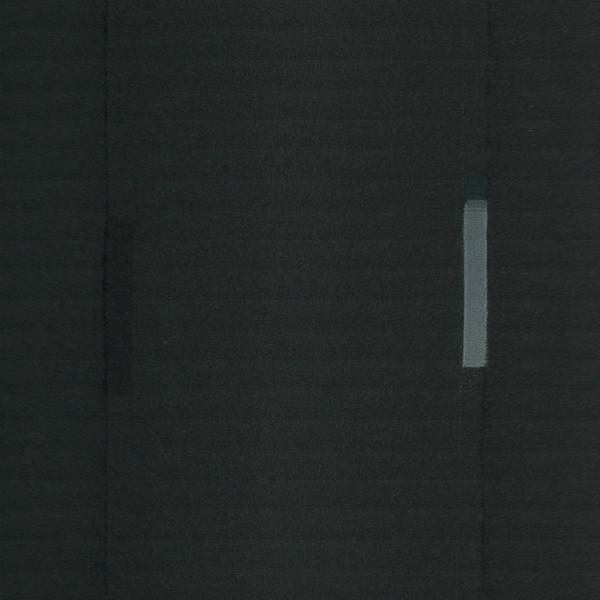road_damage: (96, 65, 111, 510)
